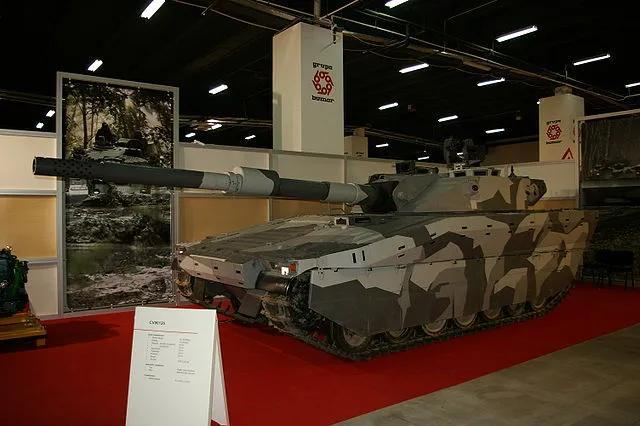MIL_IFV: (171, 140, 601, 356)
